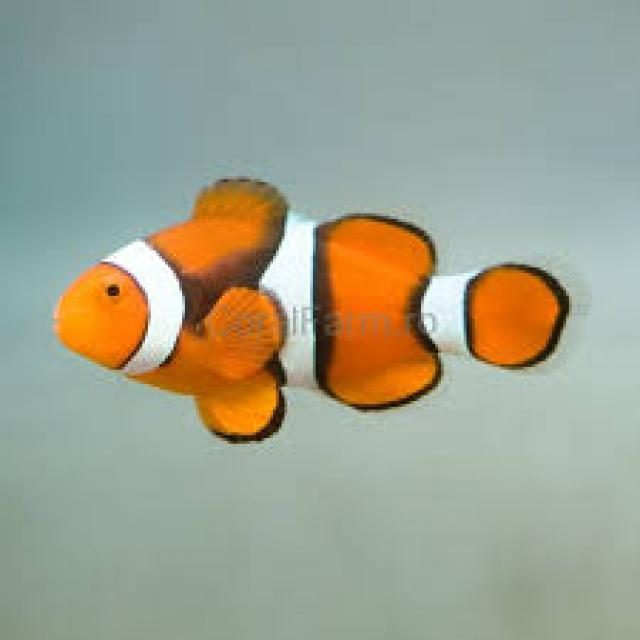ClownFish: (51, 177, 573, 446)
